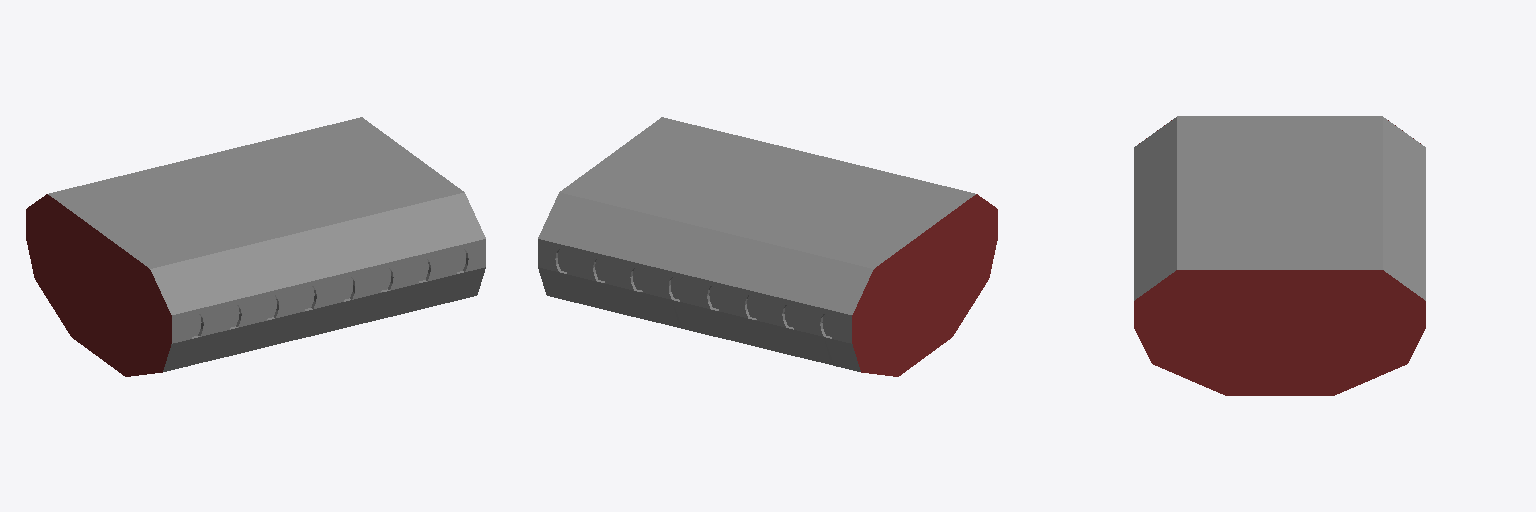
Rendered from shipp.obj.
The picture shows the model from 3 angles: view 1: azimuth 30°, elevation 25°; view 2: azimuth 150°, elevation 25°; view 3: azimuth 270°, elevation 25°; orthographic projection.
Visible parts, largest first — view 1: Environment_Environment_room.001, Object001.001; view 2: Environment_Environment_room.001, Object001.001; view 3: Environment_Environment_room.001, Object001.001.
Boxes of the visible parts, <box> form: Environment_Environment_room.001: <box>48,117,485,371</box>; Object001.001: <box>26,194,171,376</box>; Environment_Environment_room.001: <box>538,117,975,371</box>; Object001.001: <box>852,194,997,376</box>; Environment_Environment_room.001: <box>1134,116,1425,378</box>; Object001.001: <box>1134,120,1425,395</box>.
Bounding box in the file's own units: 231 × 88.06 × 185.